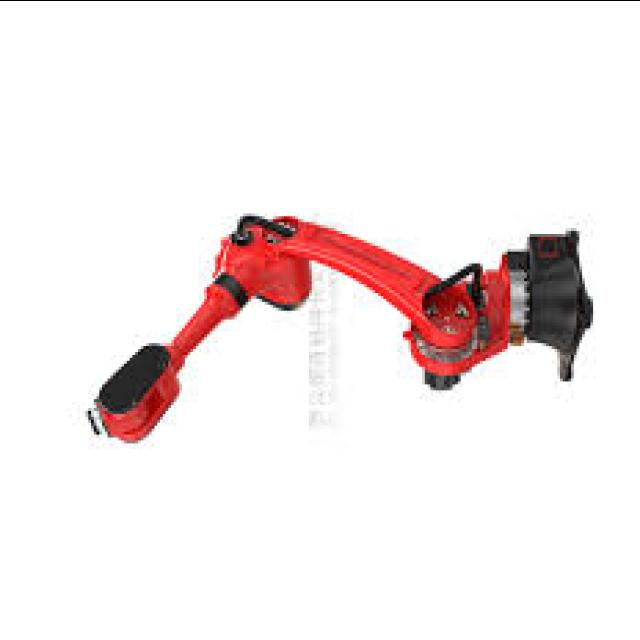Robotic-arm: (76, 200, 600, 450)
